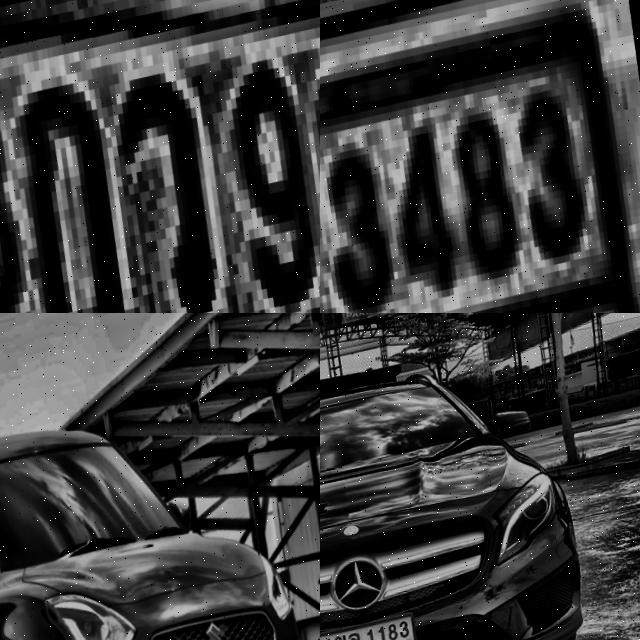license-plate: (0, 0, 320, 313), (320, 0, 640, 313), (320, 611, 430, 640)
